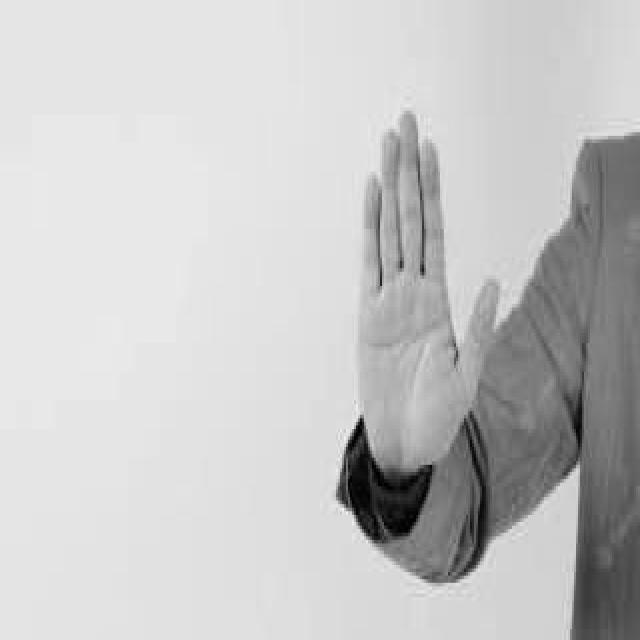stop: (351, 102, 503, 484)
